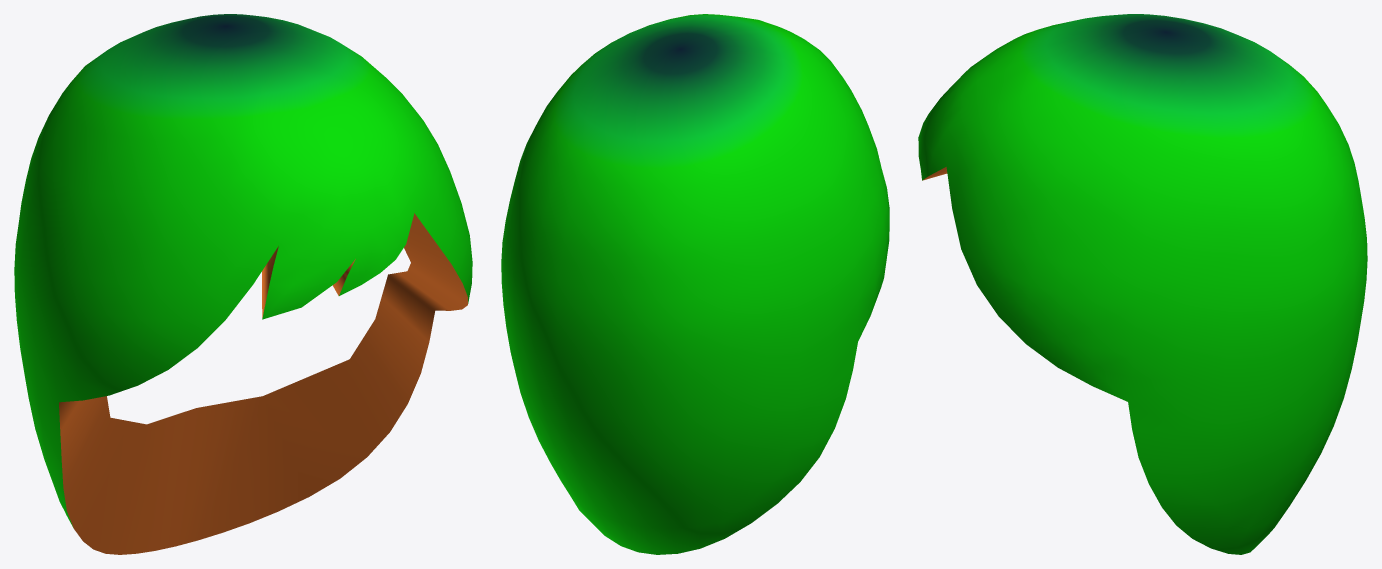
Rendered from Hair1_16.glb.
The picture shows the model from 3 angles, left to right: view 1: azimuth 30°, elevation 25°; view 2: azimuth 150°, elevation 25°; view 3: azimuth 270°, elevation 25°; orthographic projection. The views are drawn at different scales.
Size of the model in its own units: 59.05 by 82.18 by 66.06.
